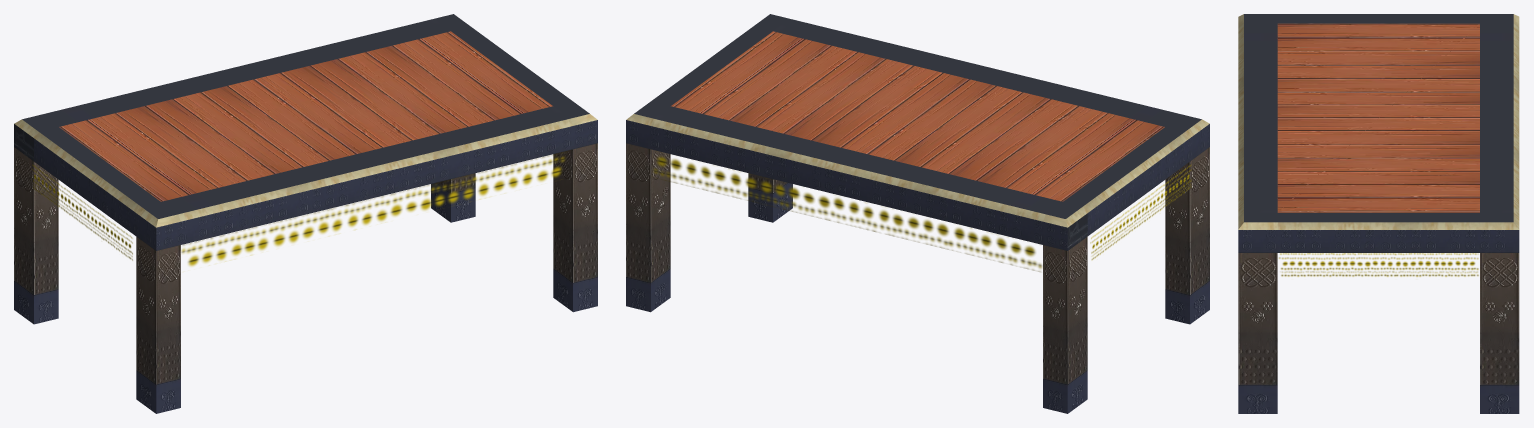
Rendered from pm-table-02.glb.
3 views of the same model, side by side, from view 1: azimuth 30°, elevation 25°; view 2: azimuth 150°, elevation 25°; view 3: azimuth 270°, elevation 25° (orthographic).
Visible parts, largest first — view 1: Table02; view 2: Table02; view 3: Table02.
Boxes of the visible parts, x1,y1,x2,y2 form: Table02: [14, 14, 597, 413]; Table02: [626, 14, 1209, 413]; Table02: [1238, 14, 1519, 413].
Bounding box in the file's own units: 1.91 × 0.7883 × 1.06.
Materials: 5 (5 with a texture image).
